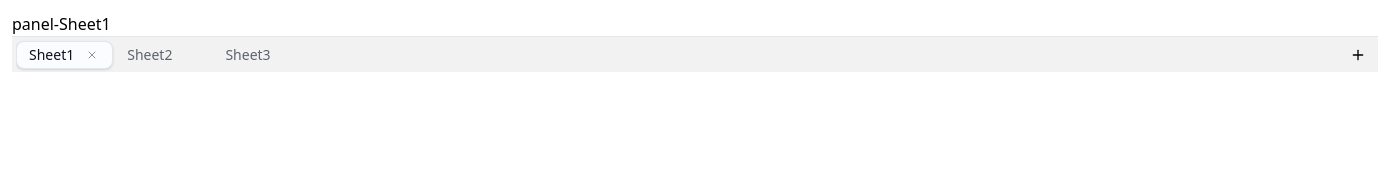
Test: <DynamicTab /> › activates a tab on click
What coordinates should you click on to do the following:
click the tab "Sheet2"
I would click on:
 (163, 54)
Its box is [114,40,211,68].
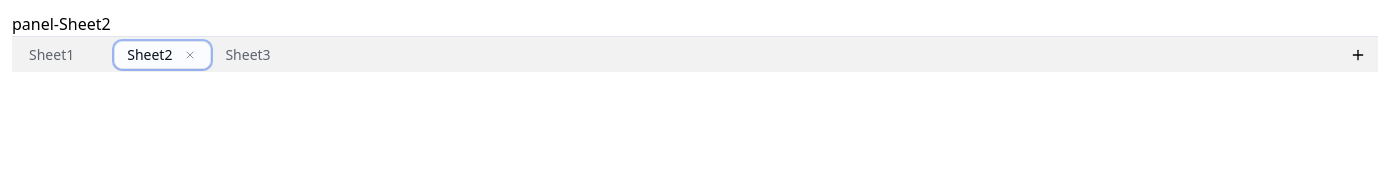
Check: the text "panel-Sheet2" is shown, box [12,13,111,35]
Check: the text "panel-Sheet1" is gone
